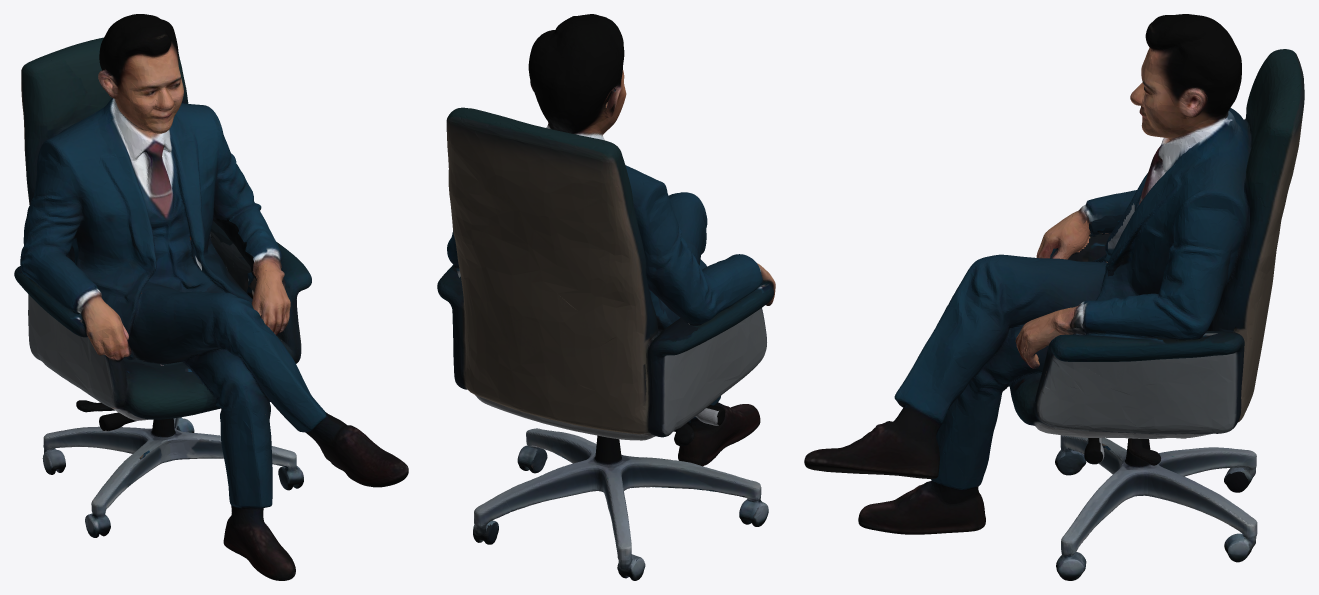
3 renders of one model, left to right at view 1: azimuth 30°, elevation 25°; view 2: azimuth 150°, elevation 25°; view 3: azimuth 270°, elevation 25°, orthographic. The views are drawn at different scales.
Parts seen in each view (by area): view 1: world; view 2: world; view 3: world.
Part boxes in pixels (bbox=[...]): world: bbox=[14, 14, 408, 580]; world: bbox=[437, 14, 775, 580]; world: bbox=[804, 14, 1304, 580].
Size of the model in its own units: 1.08 by 1.99 by 1.78.
1 material, 1 textured.
